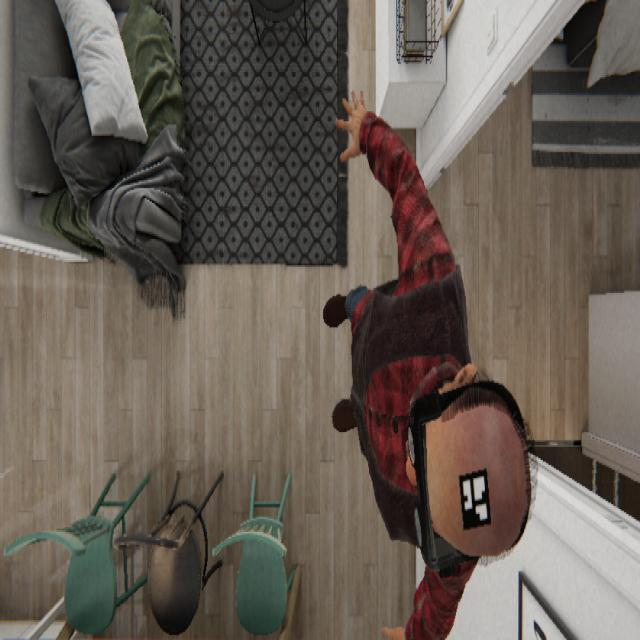AruCO: (457, 465, 492, 530)
Human: (321, 86, 534, 636)
